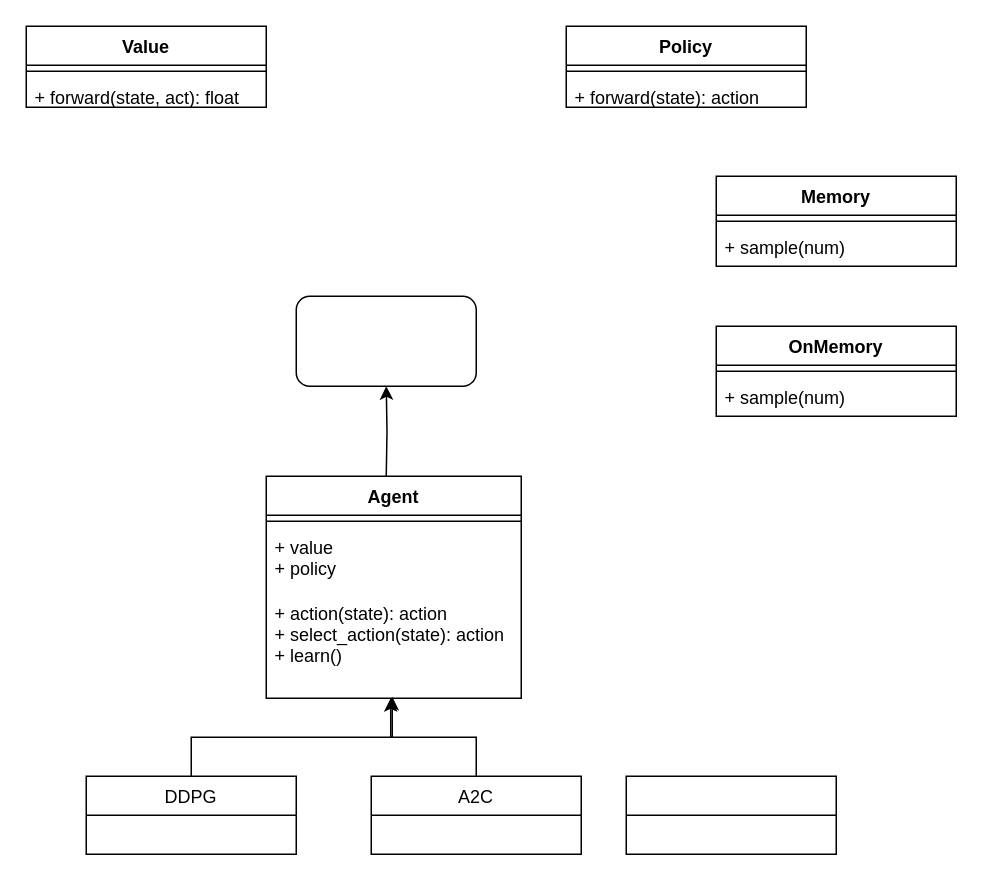
This 983x881 diagram has some shape labels left out. Each missing label, with the centre of its shape:
"PPO" goes at point 730,814.
"torch.nn.Module" goes at point 385,340.
